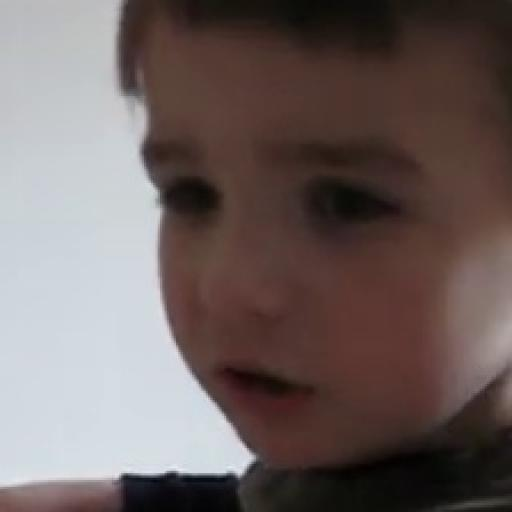Autism: (106, 24, 512, 494)
